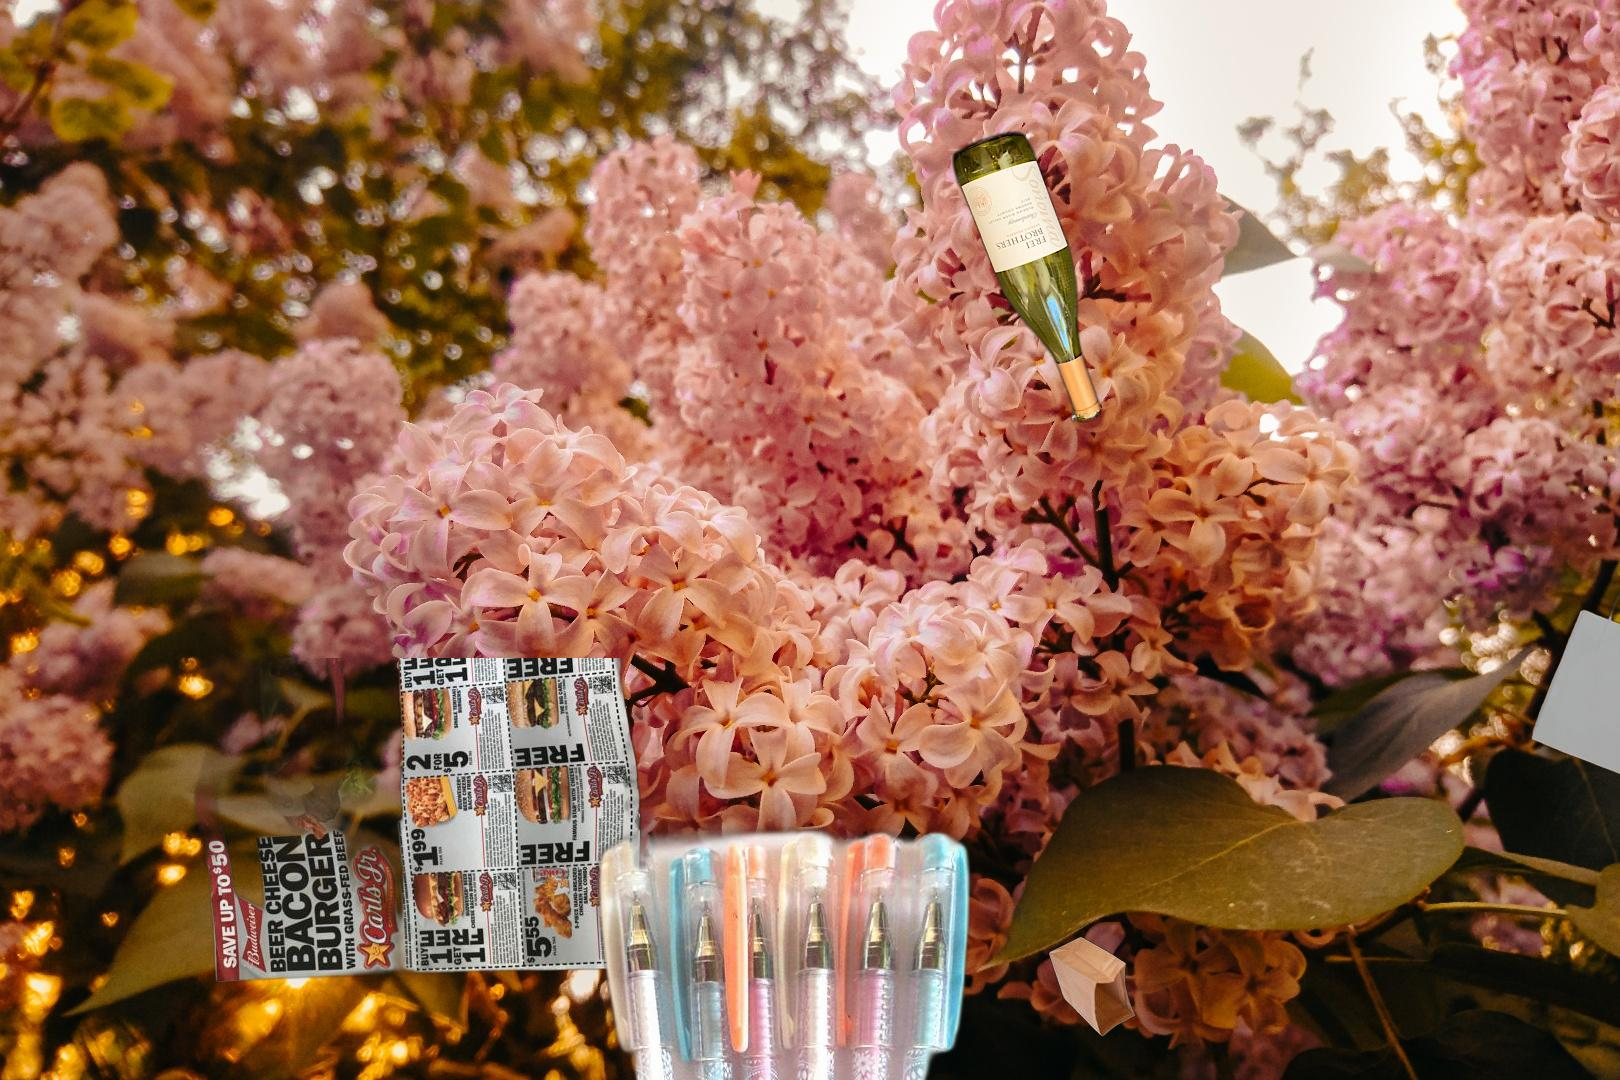glass: (947, 127, 1107, 428)
paper: (188, 658, 651, 986)
paper-bag: (1528, 579, 1620, 781), (1046, 937, 1139, 1043)
penholder: (589, 818, 978, 1080)
